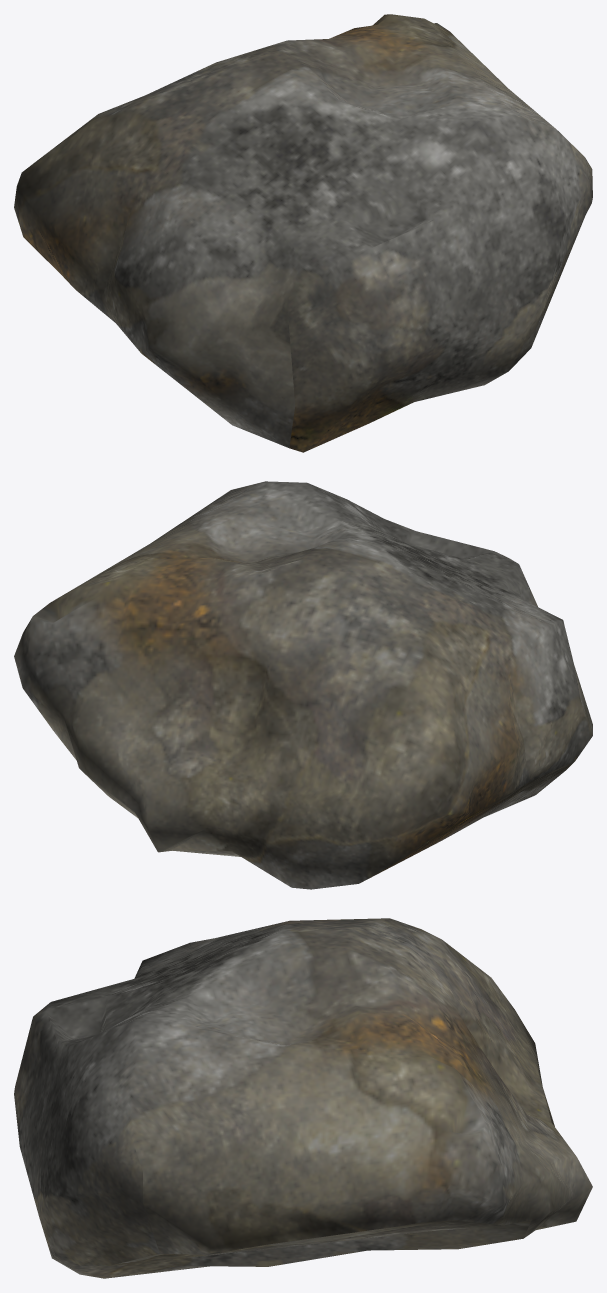
File: rock 3.obj
3 renders of one model, top to bottom at view 1: azimuth 30°, elevation 25°; view 2: azimuth 150°, elevation 25°; view 3: azimuth 270°, elevation 25°, orthographic. The views are drawn at different scales.
Visible parts, largest first — view 1: Pavementblock.021; view 2: Pavementblock.021; view 3: Pavementblock.021.
Part boxes in pixels (x1=…): Pavementblock.021: x1=14, y1=14, x2=592, y2=452; Pavementblock.021: x1=14, y1=481, x2=592, y2=889; Pavementblock.021: x1=14, y1=918, x2=592, y2=1278.
Size of the model in its own units: 3.52 by 2.12 by 3.6.
